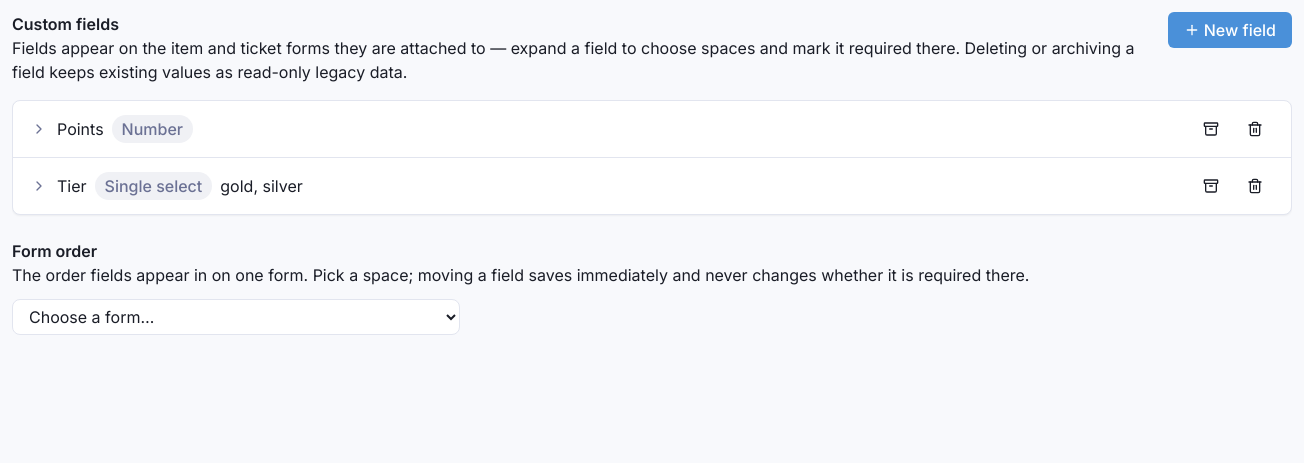
Test: FormOrderPanel › renders the chosen form in scope order with names and required flags
Select "Engineering — item form" in the dropdown with test id "form-order-space" at (236, 317), box [12,299,460,335]
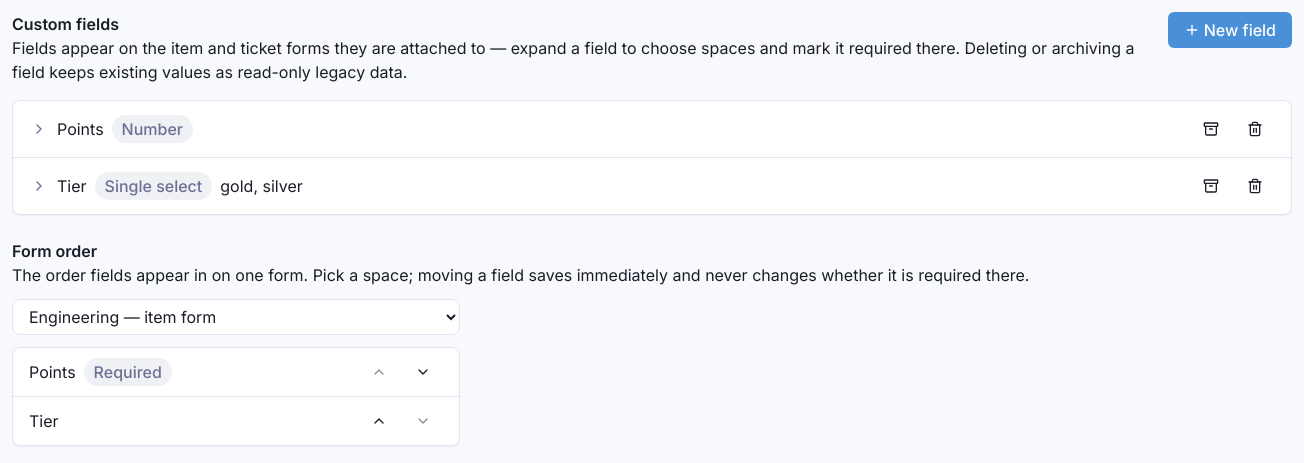
expect the number of list items with test id "form-order-row" is 2: met, box [13,348,459,397]; [13,397,459,445]
expect the list item with test id "form-order-row" shows "Points": met, box [29,362,76,382]
expect the list item with test id "form-order-row" shows "Required": met, box [94,362,162,382]
